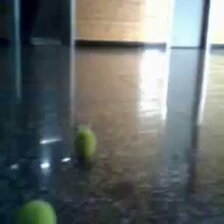tennis: (17, 199, 58, 224), (72, 127, 96, 161)
